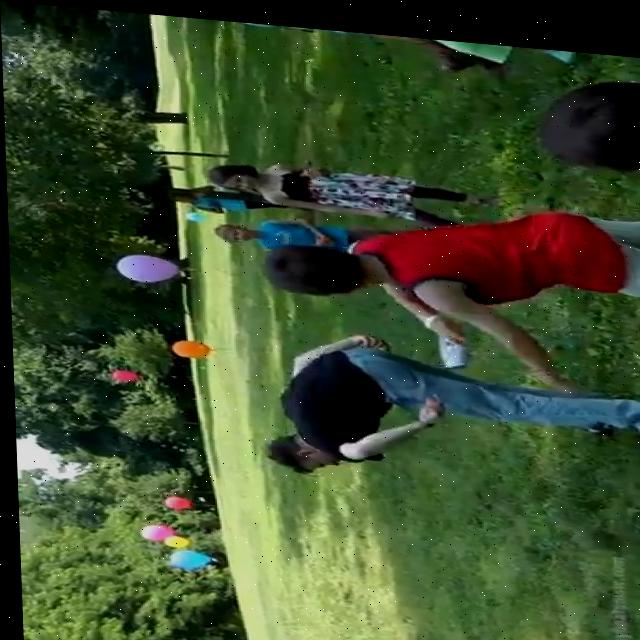balloon: (117, 249, 175, 279), (169, 545, 209, 569), (168, 334, 206, 356), (137, 521, 169, 539), (163, 531, 184, 545), (162, 493, 185, 504), (183, 206, 201, 216)
